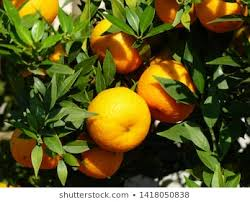orange: (87, 87, 151, 150), (139, 59, 198, 122), (89, 20, 151, 73), (72, 129, 127, 178), (10, 126, 63, 172)
